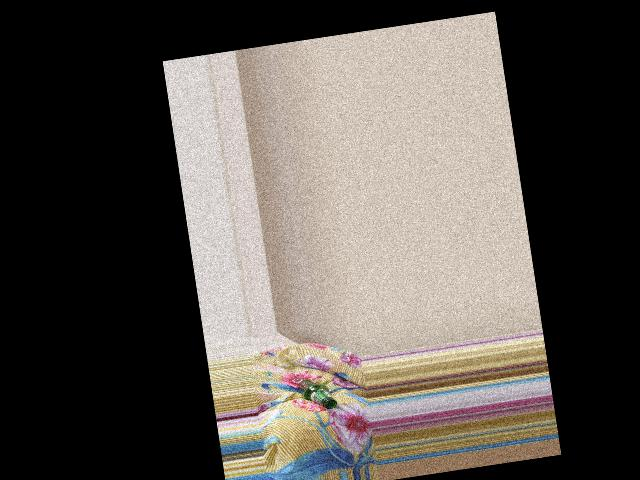beer: (297, 375, 338, 413)
